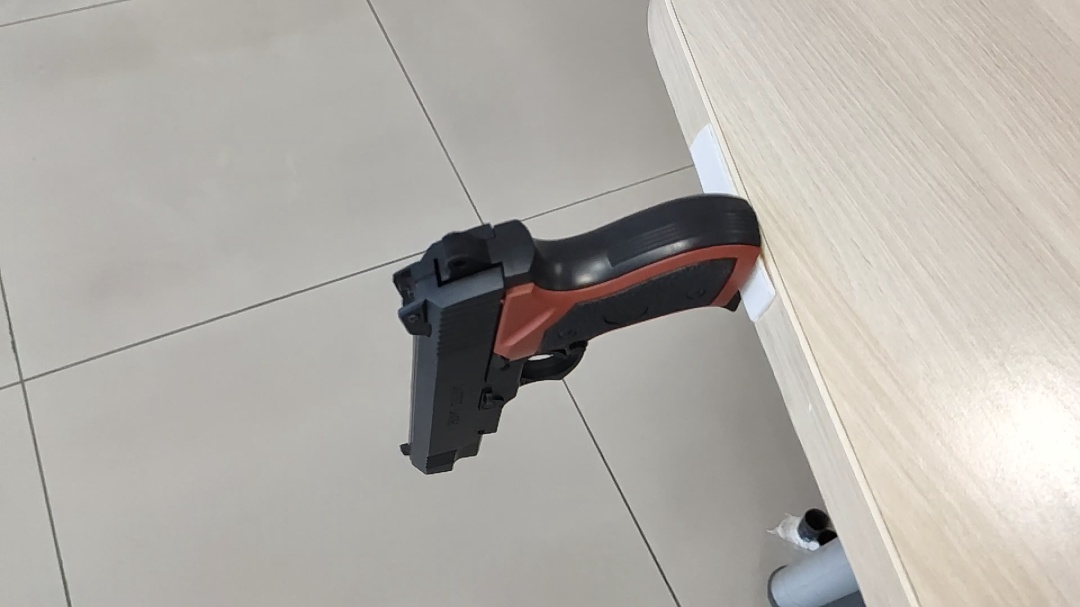gun: (384, 189, 769, 479)
